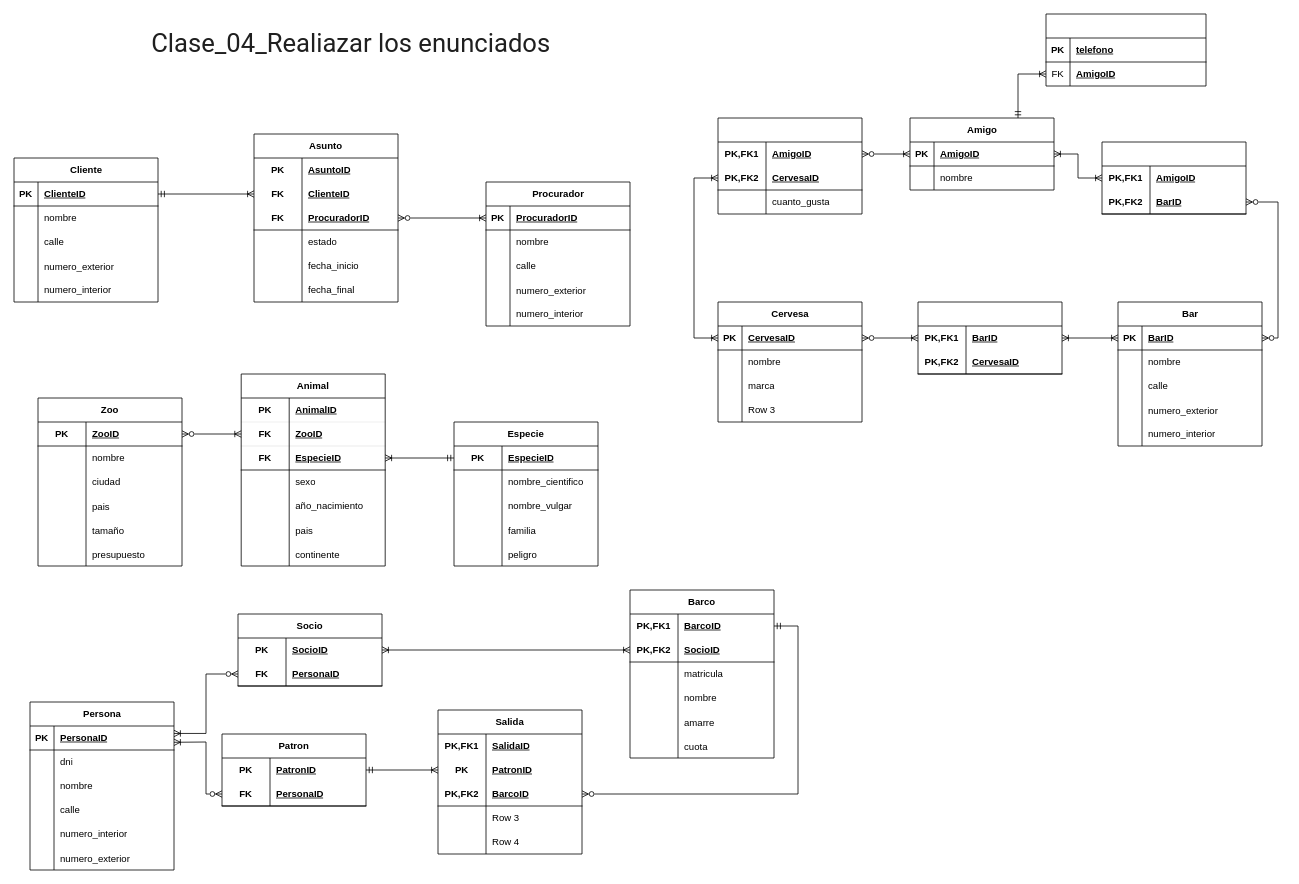
Image size: 1299x884. Some labels were removed from this diagram. Each missing label, with the box of its shape:
Asiste: (1101, 141, 1246, 214)
Disponible: (917, 301, 1062, 374)
Gusto: (717, 117, 862, 214)
TelefonoAmigo: (1045, 13, 1206, 86)
